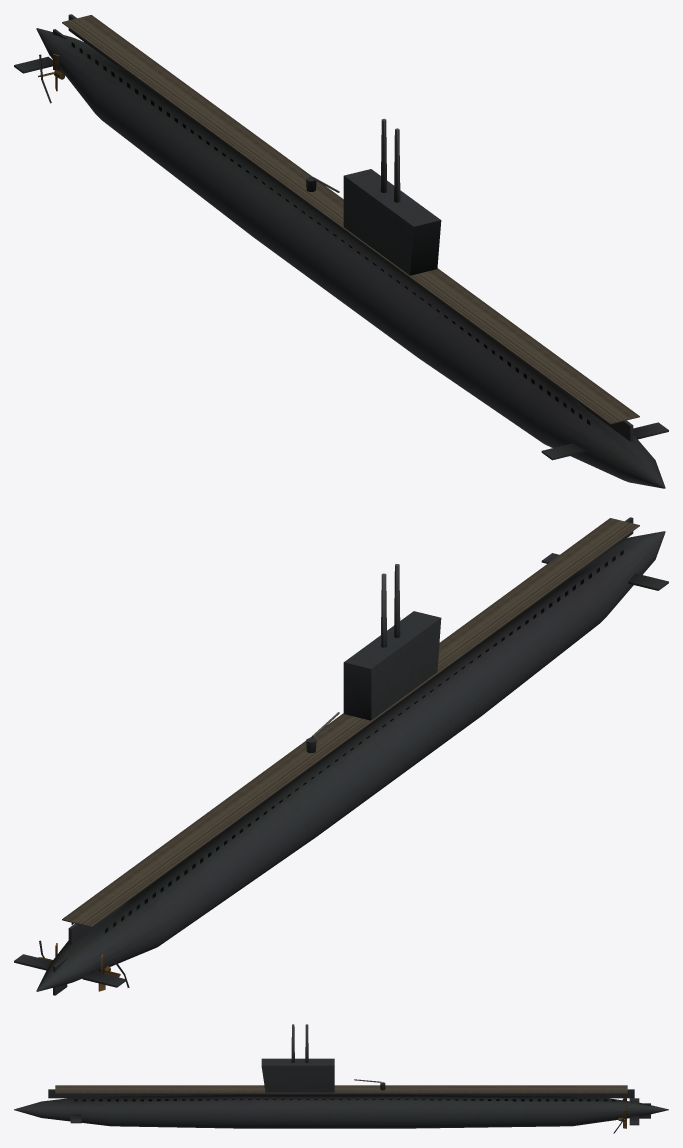
File: model_built.glb
The picture shows the model from 3 angles, top to bottom: view 1: azimuth 30°, elevation 25°; view 2: azimuth 150°, elevation 25°; view 3: azimuth 270°, elevation 25°; orthographic projection. The views are drawn at different scales.
Visible parts, largest first — view 1: main; view 2: main; view 3: main.
Part boxes in pixels (<box>): main: <box>14,14,668,488</box>; main: <box>14,517,668,995</box>; main: <box>14,1024,668,1133</box>.
Size of the model in its own units: 10.2 by 16.06 by 95.
Materials: 2 (2 with a texture image).
